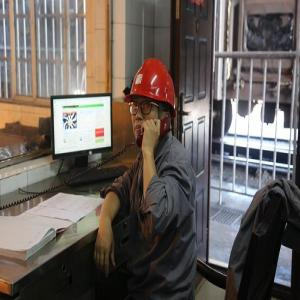red: (126, 58, 178, 144)
